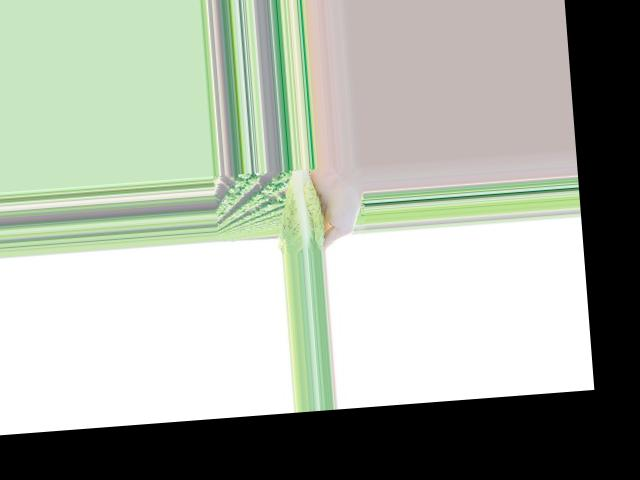lettuce: (275, 167, 325, 252)
